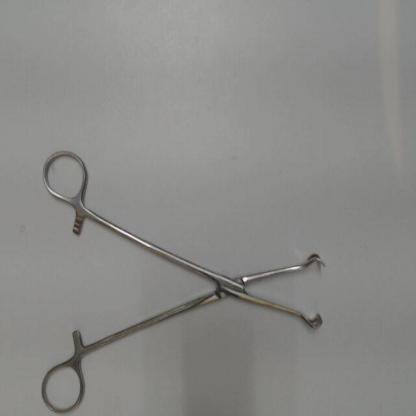8 Babcock Tissue Forceps: (33, 144, 334, 414)
